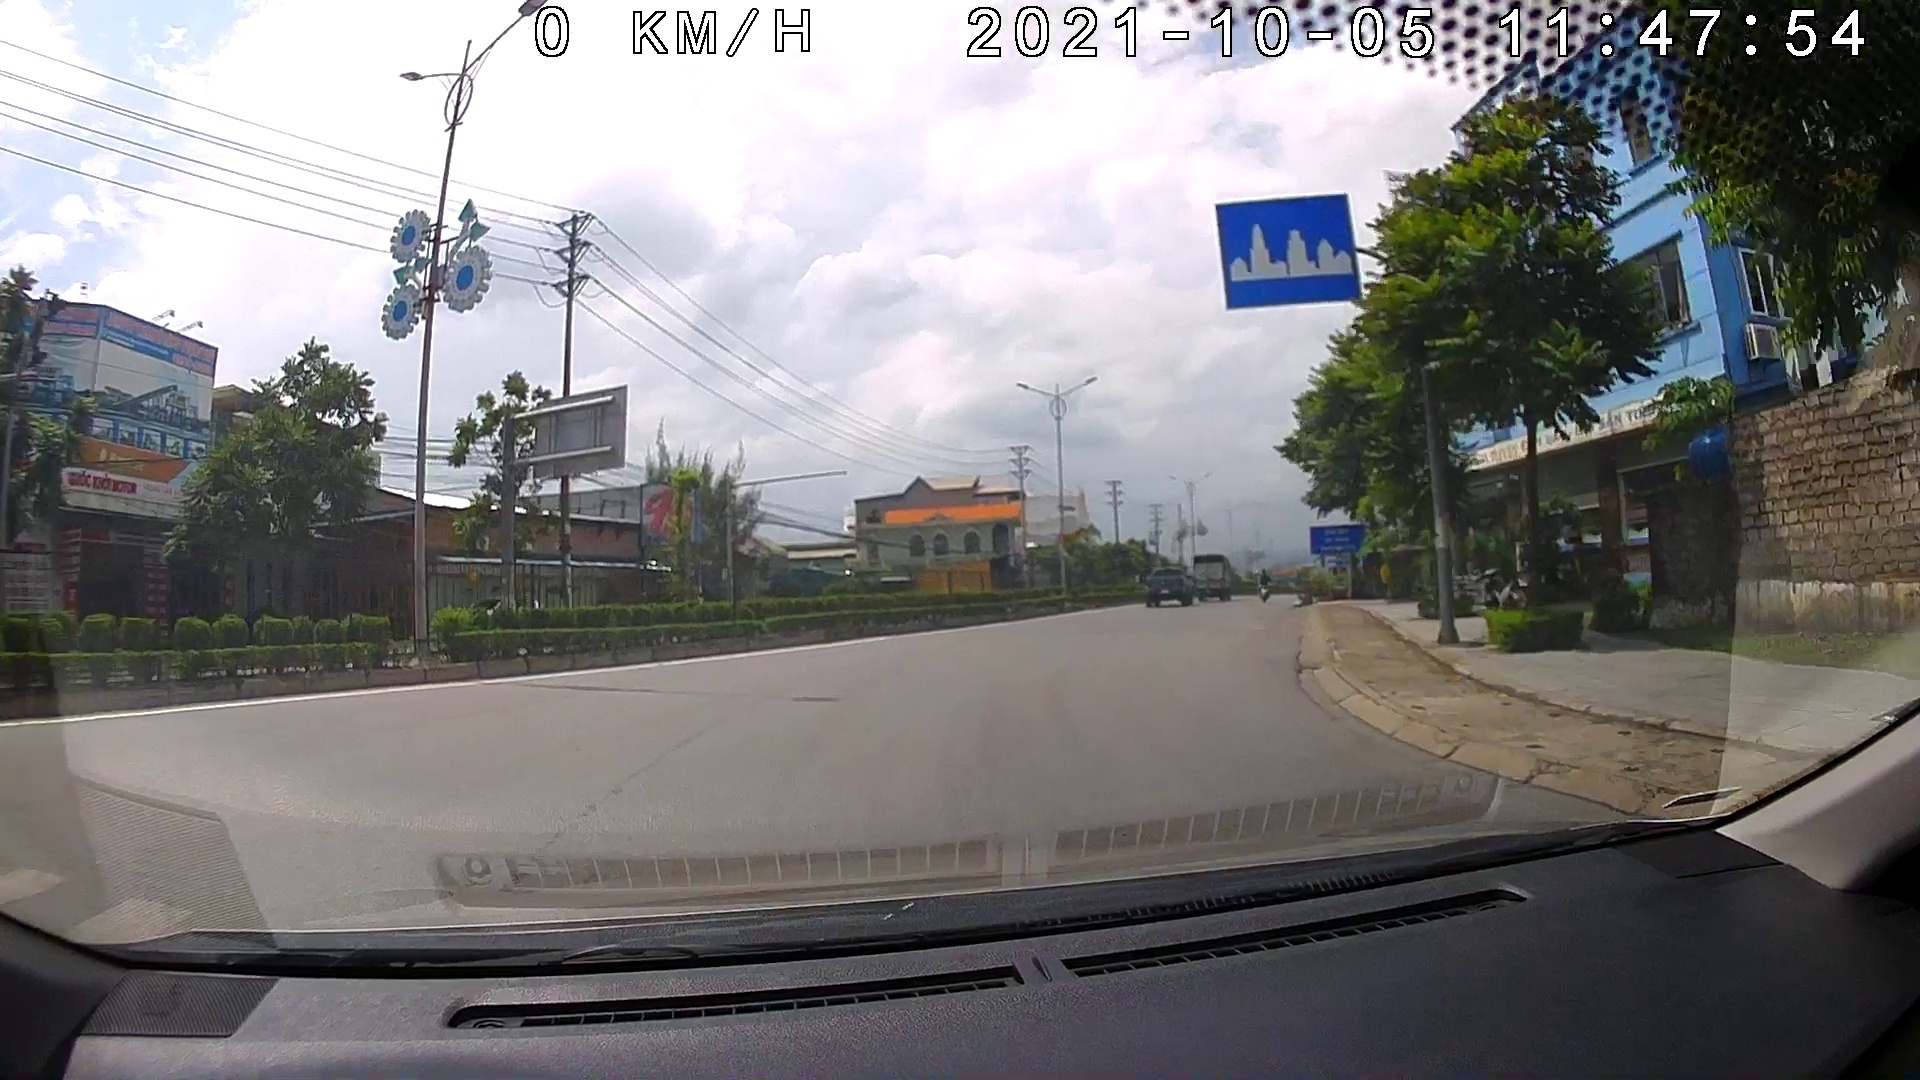Bien khac: (1215, 193, 1365, 309)
